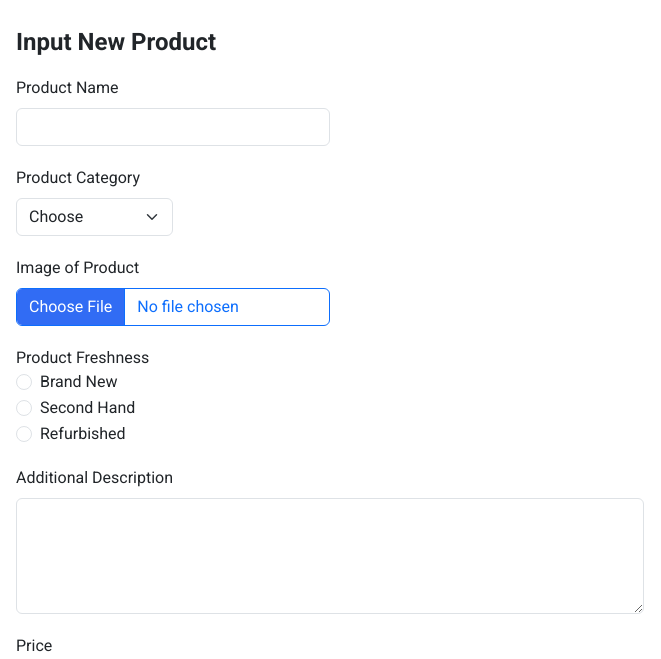
Test: Form › product name input should be required
Clear the field with test id "name-input" at coordinates (173, 127), box [16,108,330,146]
(page scrolled)
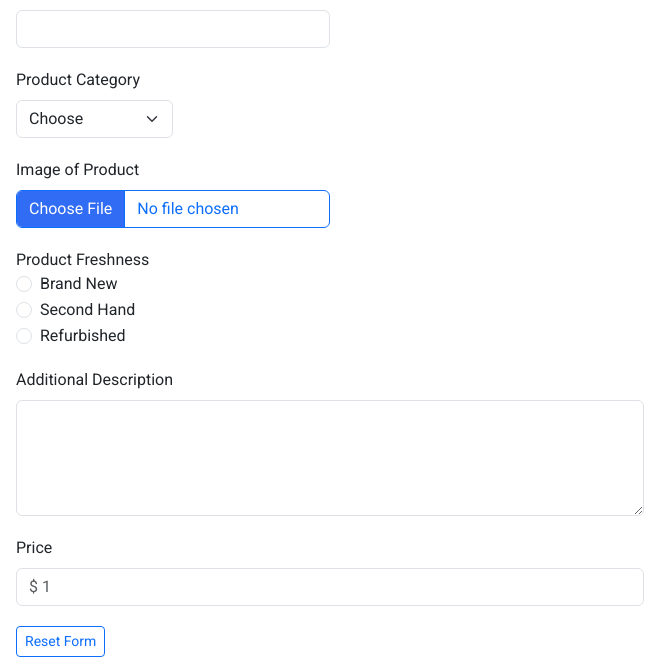
user click submit
Submit the form with test id "form"
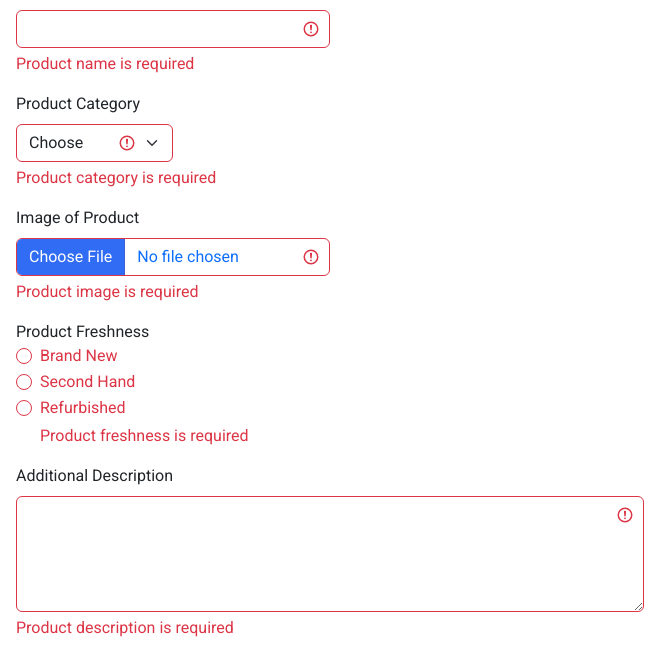
Now the text with test id "name-error" reads "Product name is required", box [16,54,194,73]
